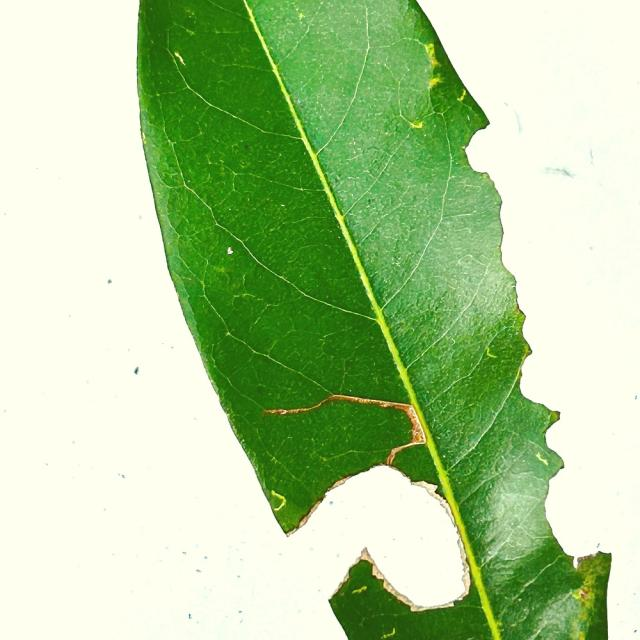Deficiency Leaf: (422, 0, 639, 639), (287, 465, 470, 611)
Lychee: (137, 0, 610, 639)
